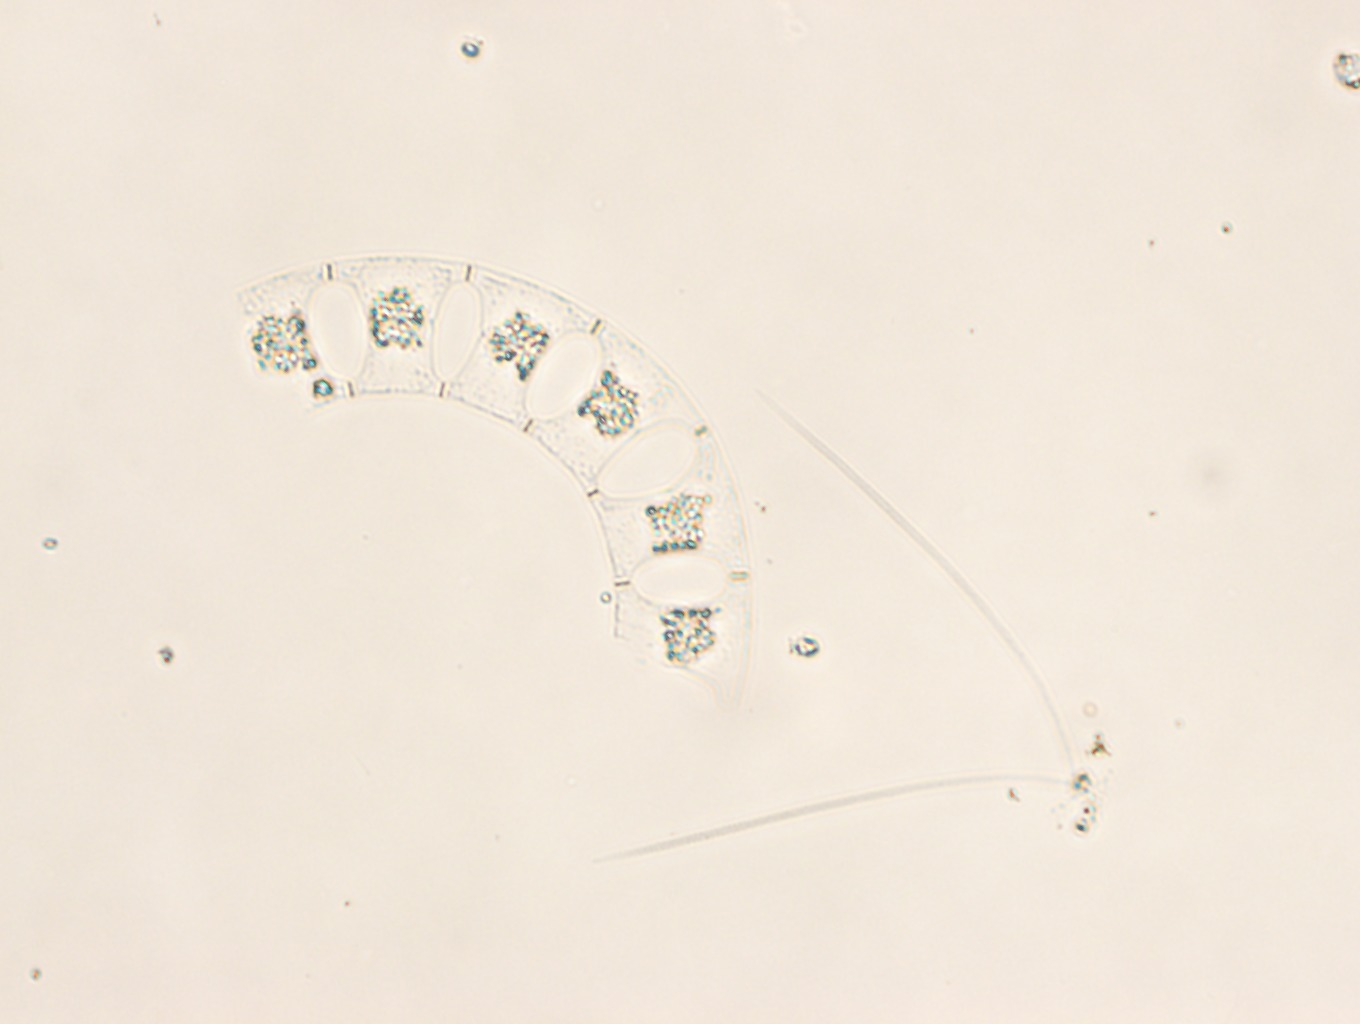eucampia: (239, 253, 750, 681)
